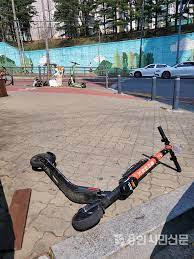fallin_kick: (29, 126, 182, 232)
